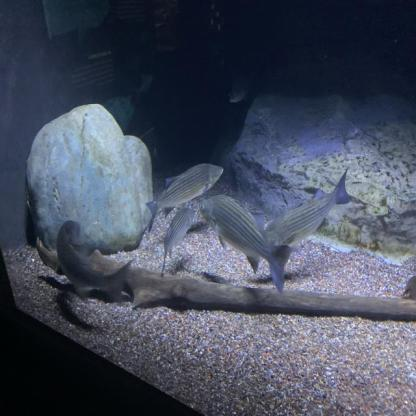fish: (197, 193, 299, 296), (260, 166, 355, 255), (53, 219, 135, 306), (144, 161, 225, 235), (160, 207, 198, 279), (228, 68, 256, 105)
